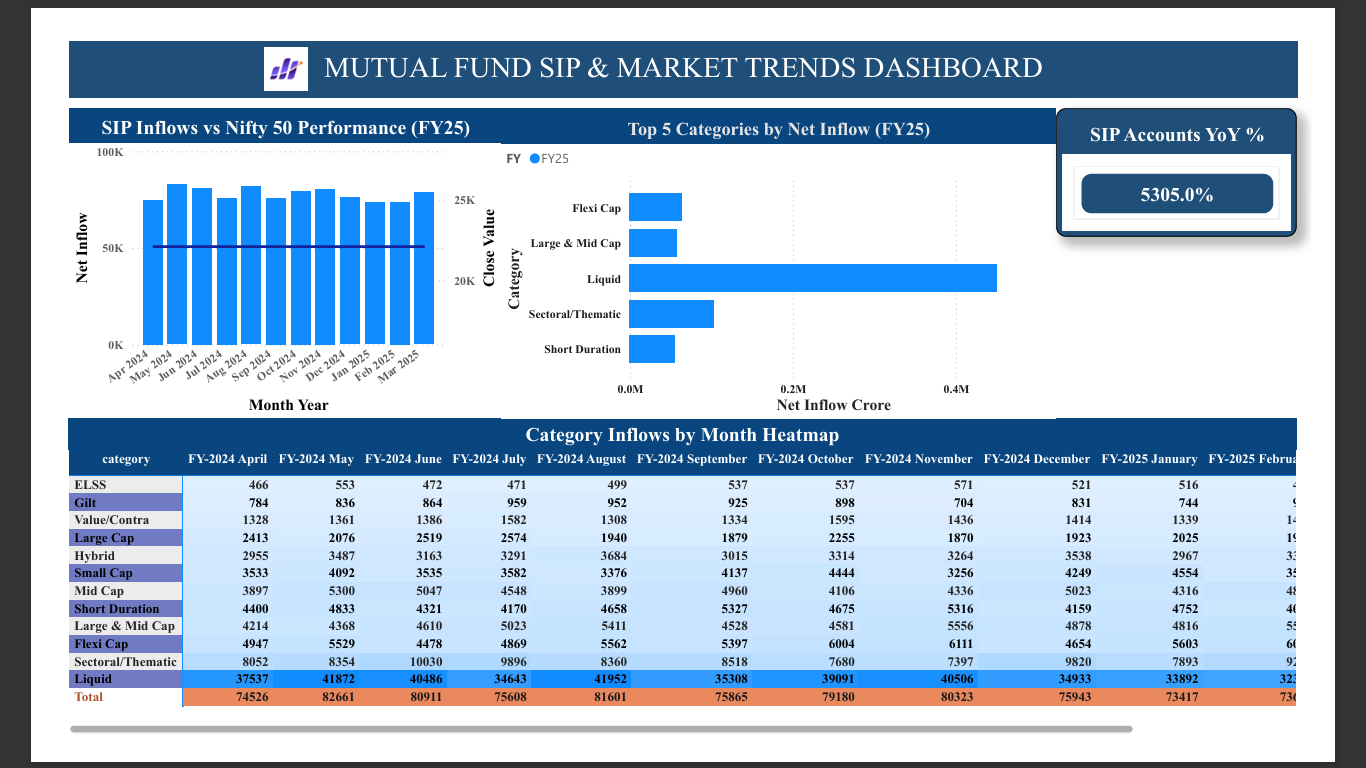

The page's visual inventory and layout, read from the dashboard file:
{"tool":"powerbi","page":{"name":"SIP & Market Trends ","canvas":[1280,720],"ordinal":3},"visuals":[{"type":"textbox","title":"MUTUAL FUND SIP & MARKET TRENDS DASHBOARD","box":[15.1,9.6,1251.1,57.8],"z":0},{"type":"lineClusteredColumnComboChart","title":"SIP Inflows vs Nifty 50 Performance (FY25)","fields":{"Y":["Sum(category_inflows_clean.net_inflow_crore)"],"Y2":["Avg(benchmark_indices_clean.close_value)"],"Category":["category_inflows_clean.Month Year"]},"box":[14.9,77.7,440.7,315.2],"z":1000},{"type":"pivotTable","title":"Category Inflows by Month Heatmap","fields":{"Rows":["category_inflows_clean.category"],"Columns":["category_inflows_clean.Month Year Label"],"Values":["Sum(category_inflows_clean.net_inflow_crore)"]},"box":[14.5,394.2,1250.7,326.1],"z":2000},{"type":"clusteredBarChart","title":"Top 5 Categories by Net Inflow (FY25)","fields":{"Category":["category_inflows_clean.category","category_inflows_clean.month.Variation.Date Hierarchy.Year","category_inflows_clean.month.Variation.Date Hierarchy.Month"],"Y":["Sum(category_inflows_clean.net_inflow_crore)"],"Series":["category_inflows_clean.FY"]},"box":[455.1,78.3,565.2,315.9],"z":3000},{"type":"cardVisual","title":" SIP Accounts YoY %","fields":{"Data":["monthly_sip_inflows_clean.SIP YoY Clean"]},"box":[1020.3,78.3,244.9,130.4],"z":4000},{"type":"image","box":[203.2,16.4,65.7,43.3],"z":5000}]}

Visuals, with their boxes in screenshot pixels (x1, y1, x2, y2), scaled from the page's 1280x720 canvas onto the 1366x768 screenshot:
"MUTUAL FUND SIP & MARKET TRENDS DASHBOARD" textbox: bbox(16, 10, 1351, 72)
"SIP Inflows vs Nifty 50 Performance (FY25)" lineClusteredColumnComboChart: bbox(16, 83, 486, 419)
"Category Inflows by Month Heatmap" pivotTable: bbox(15, 420, 1350, 767)
"Top 5 Categories by Net Inflow (FY25)" clusteredBarChart: bbox(486, 84, 1089, 420)
" SIP Accounts YoY %" cardVisual: bbox(1089, 84, 1350, 223)
image: bbox(217, 17, 287, 64)
